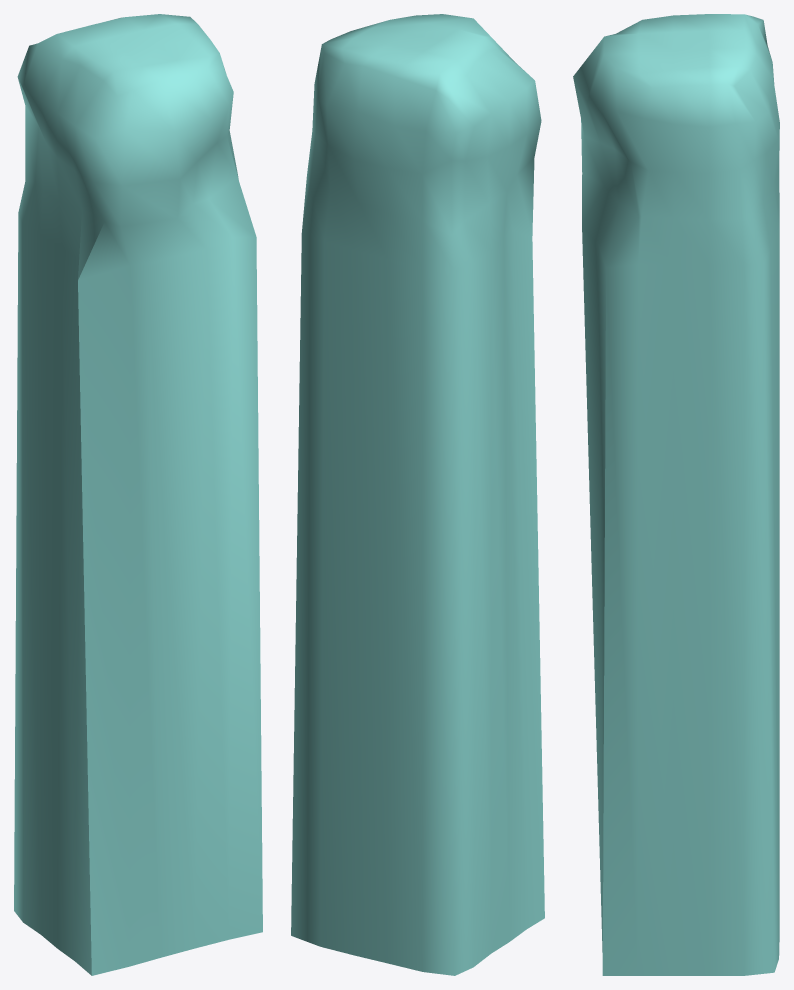
3 renders of one model, left to right at view 1: azimuth 30°, elevation 25°; view 2: azimuth 150°, elevation 25°; view 3: azimuth 270°, elevation 25°, orthographic.
Parts seen in each view (by area): view 1: Cube.004; view 2: Cube.004; view 3: Cube.004.
Part boxes in pixels (bbox=[...]): Cube.004: bbox=[14, 14, 262, 975]; Cube.004: bbox=[291, 14, 544, 975]; Cube.004: bbox=[573, 14, 779, 975].
Size of the model in its own units: 735 by 3590 by 751.
